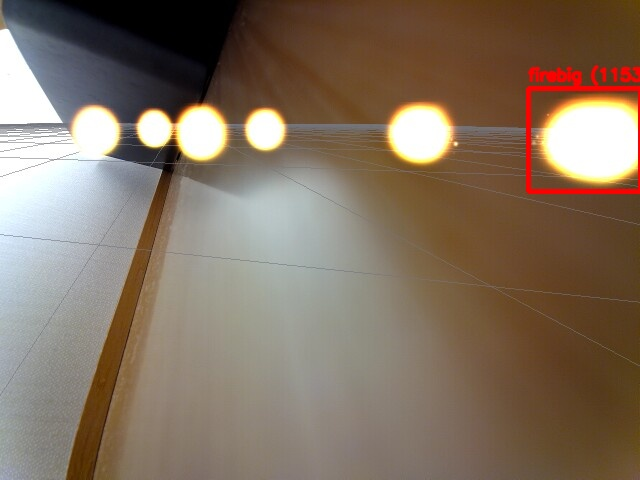firebig: (528, 88, 640, 191)
